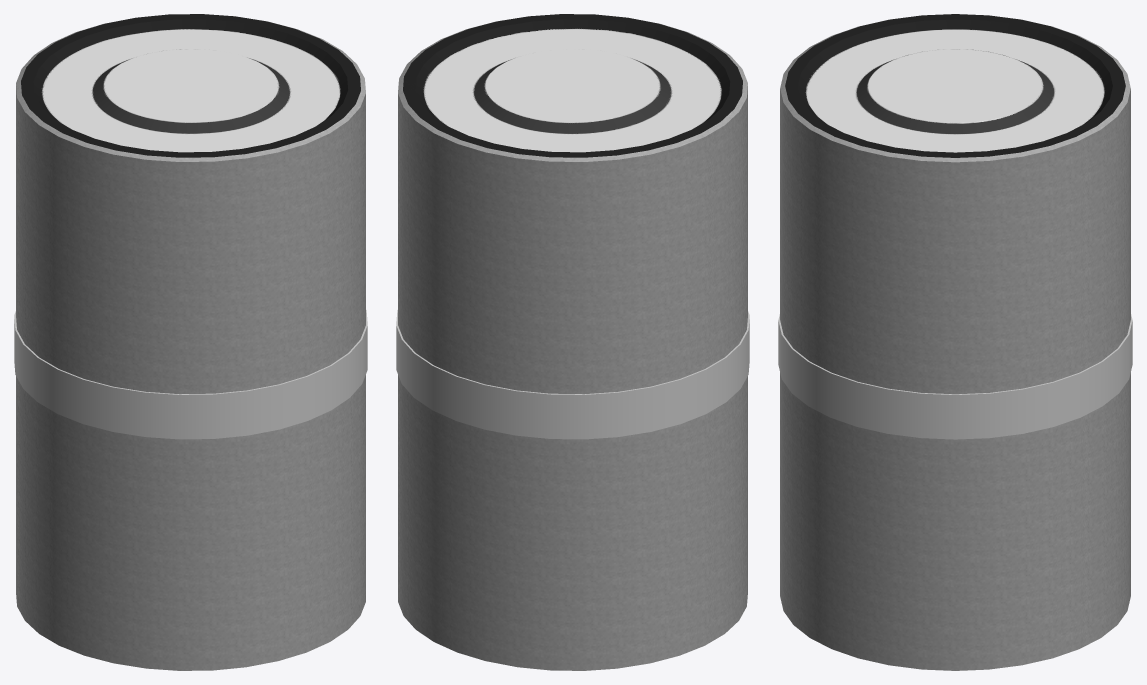
Rendered from hangar-extension.fbx.
3 renders of one model, left to right at view 1: azimuth 30°, elevation 25°; view 2: azimuth 150°, elevation 25°; view 3: azimuth 270°, elevation 25°, orthographic.
Parts seen in each view (by area): view 1: hangar-extension, stripe; view 2: hangar-extension, stripe; view 3: hangar-extension, stripe.
Part boxes in pixels (x1=…): hangar-extension: x1=16, y1=14, x2=365, y2=670; stripe: x1=14, y1=310, x2=367, y2=439; hangar-extension: x1=398, y1=14, x2=747, y2=670; stripe: x1=396, y1=310, x2=749, y2=439; hangar-extension: x1=780, y1=14, x2=1130, y2=670; stripe: x1=778, y1=314, x2=1132, y2=439.
Size of what is drawn, in the model's own units: 2.53 by 4.03 by 2.53.
3 materials, 1 textured.
